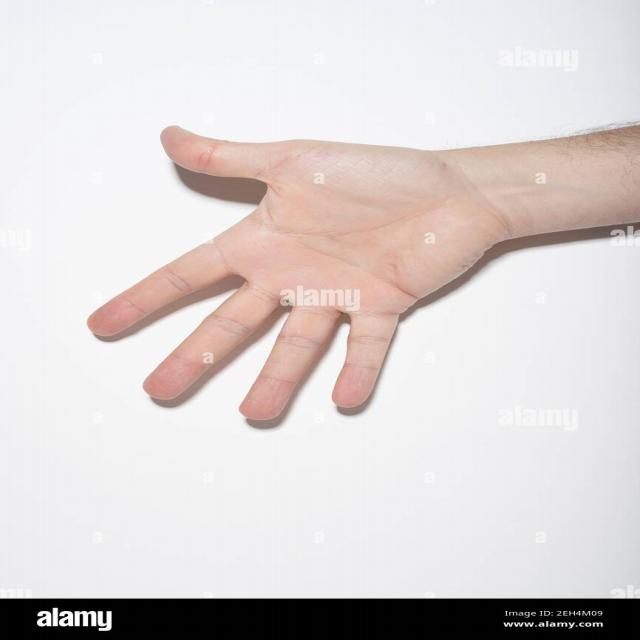bare_hand: (86, 125, 513, 424)
